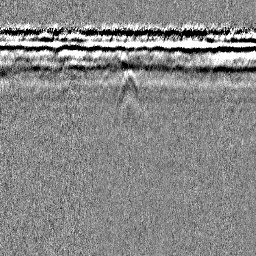cavity: (116, 67, 140, 109)
